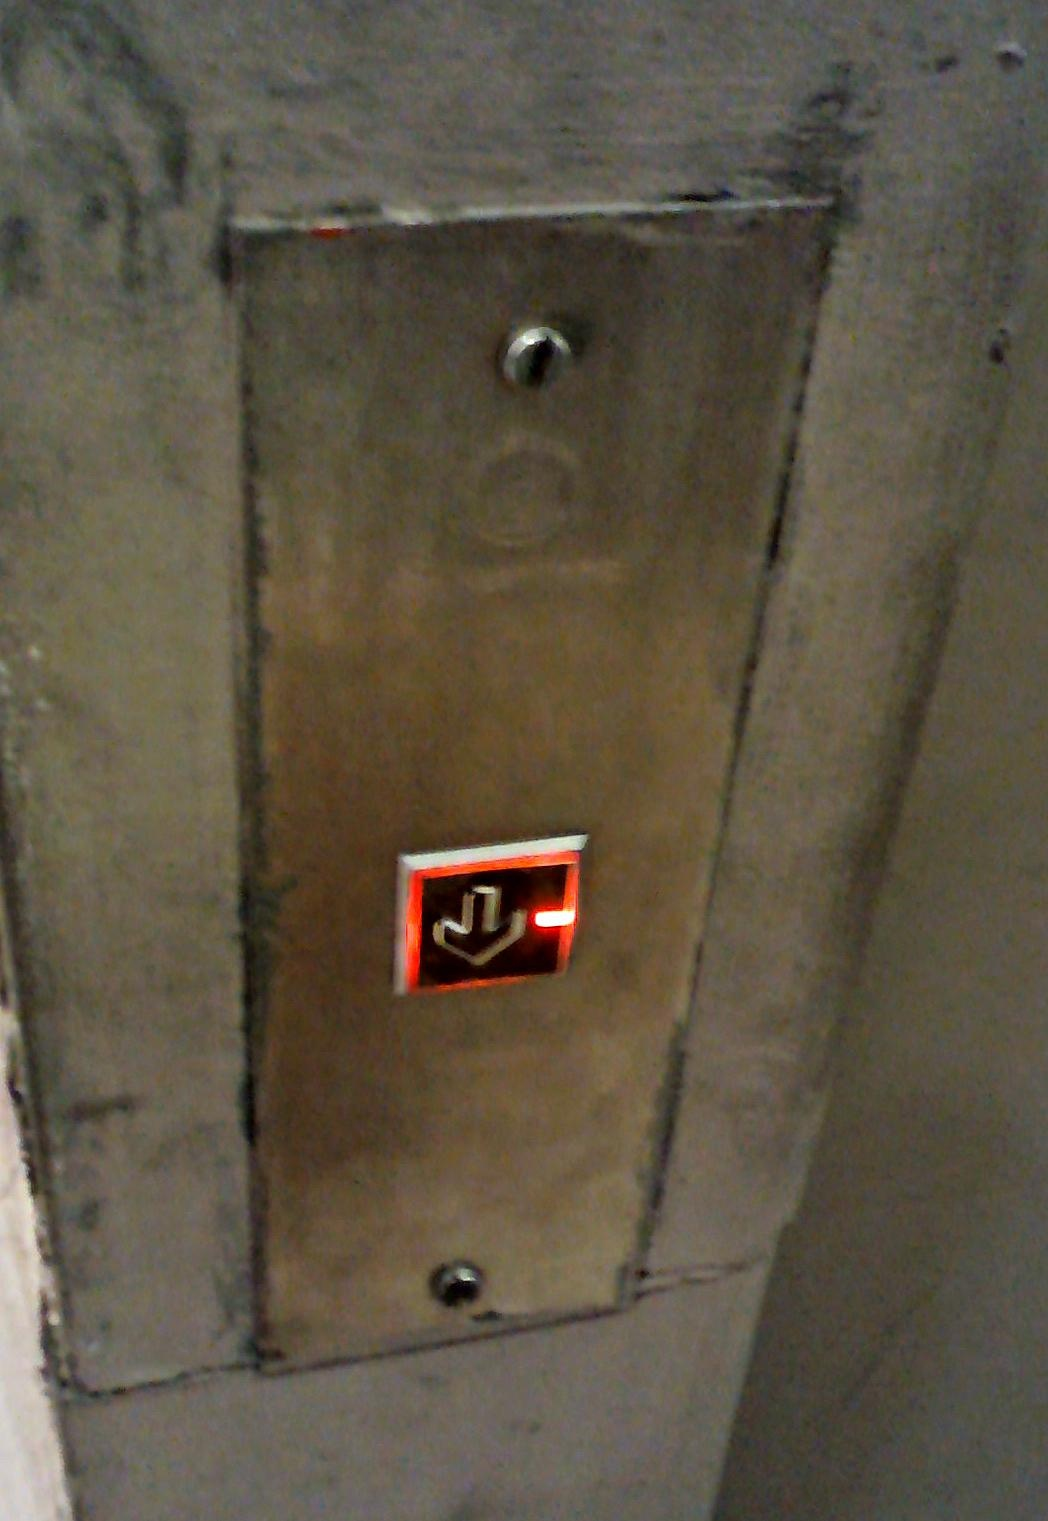down: (388, 826, 592, 1012)
